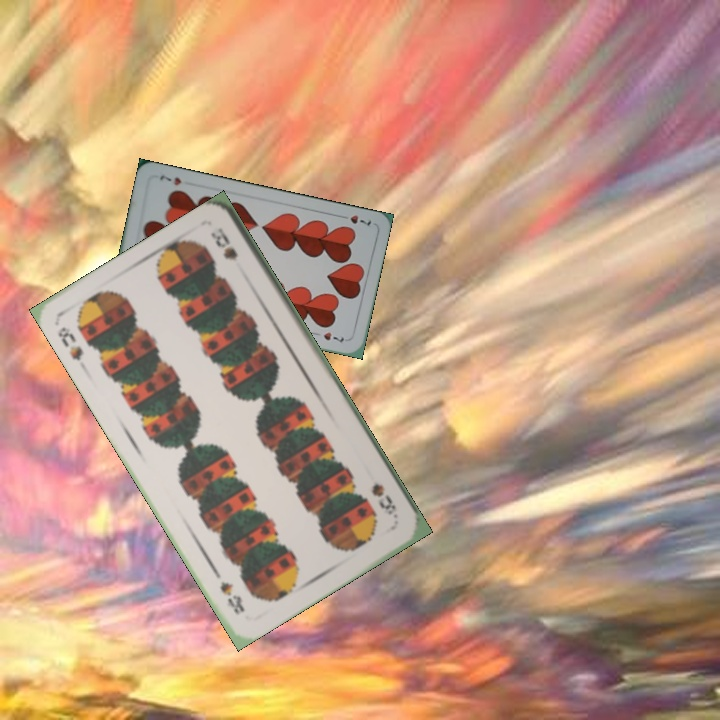H7: (335, 211, 374, 228)
S8: (367, 479, 401, 521), (53, 322, 86, 364)
